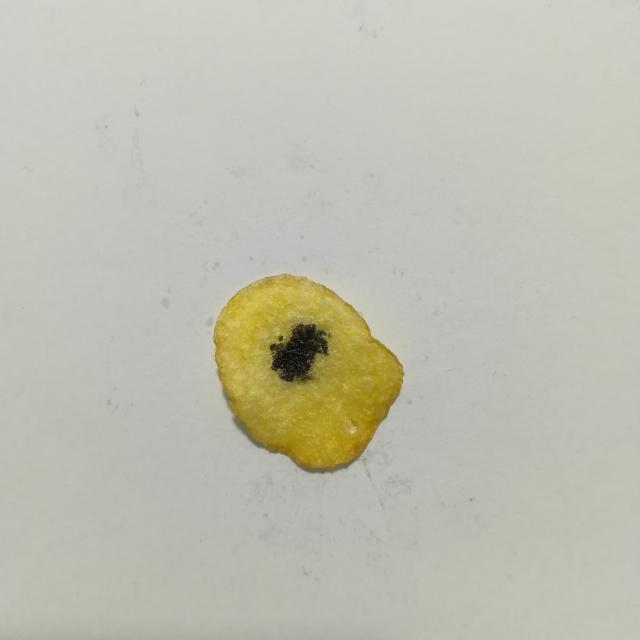chip: (213, 274, 403, 468)
damaged: (270, 322, 329, 382), (278, 334, 284, 342)
semi-damaged: (328, 333, 332, 338)
